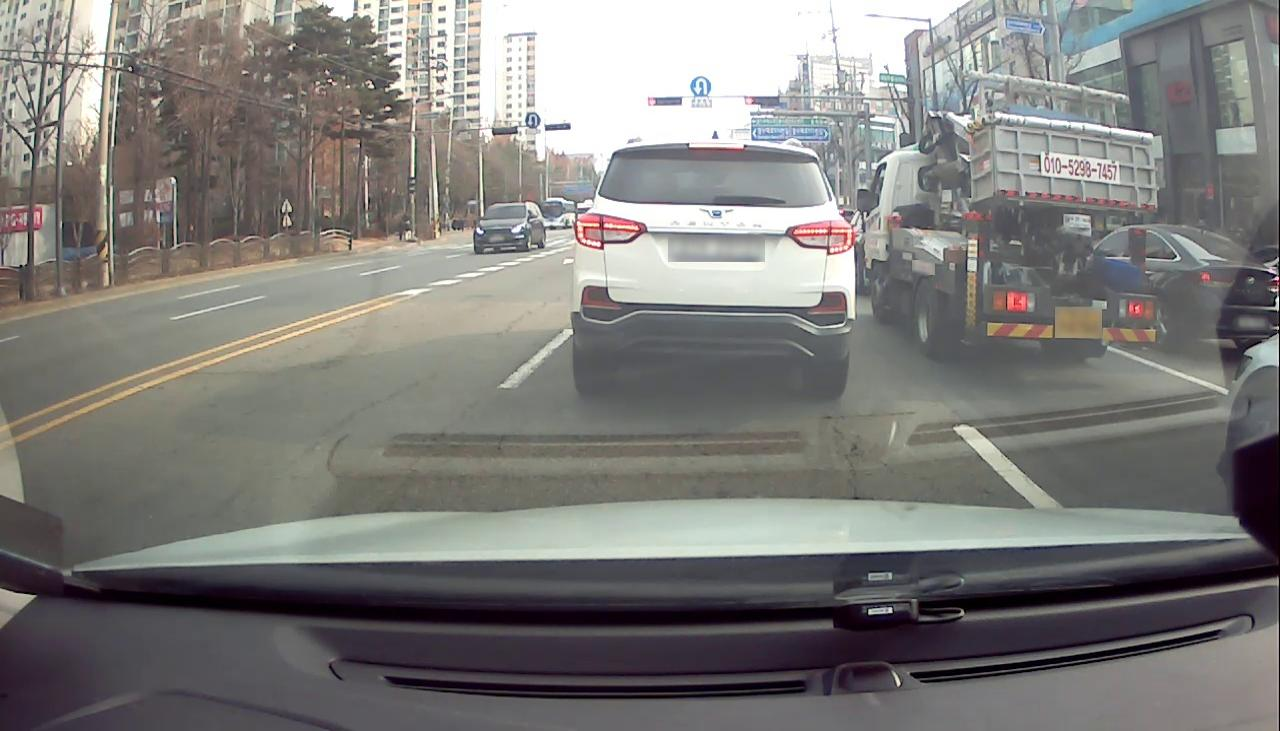Red Light: (647, 95, 657, 106), (743, 96, 755, 105)
